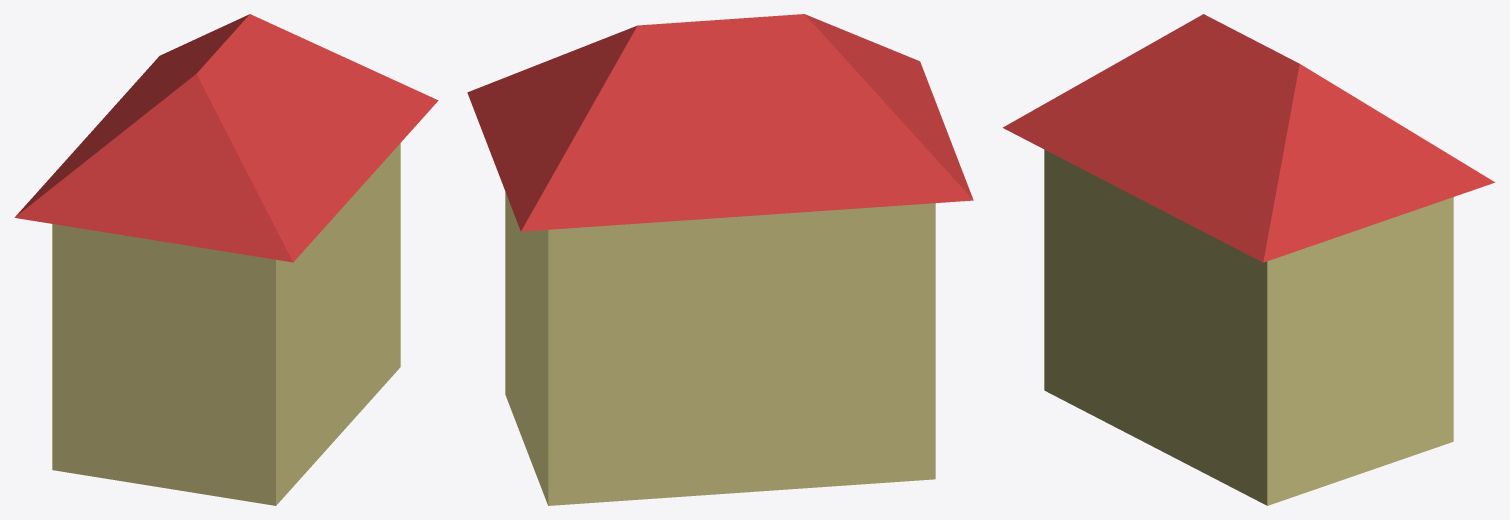
The picture shows the model from 3 angles, left to right: view 1: azimuth 30°, elevation 25°; view 2: azimuth 150°, elevation 25°; view 3: azimuth 270°, elevation 25°; orthographic projection. The views are drawn at different scales.
Parts seen in each view (by area): view 1: group_5, group_3, group_4; view 2: group_5, group_3, group_4; view 3: group_5, group_3, group_4.
Part boxes in pixels (bbox=[...]): group_5: bbox=[52, 143, 400, 505]; group_3: bbox=[14, 14, 438, 262]; group_4: bbox=[15, 46, 292, 262]; group_5: bbox=[505, 192, 935, 505]; group_3: bbox=[467, 14, 973, 231]; group_4: bbox=[521, 51, 973, 230]; group_5: bbox=[1044, 149, 1453, 505]; group_3: bbox=[1003, 14, 1495, 262]; group_4: bbox=[1010, 102, 1494, 182].
Bounding box in the file's own units: 17.13 × 16.59 × 13.97.
